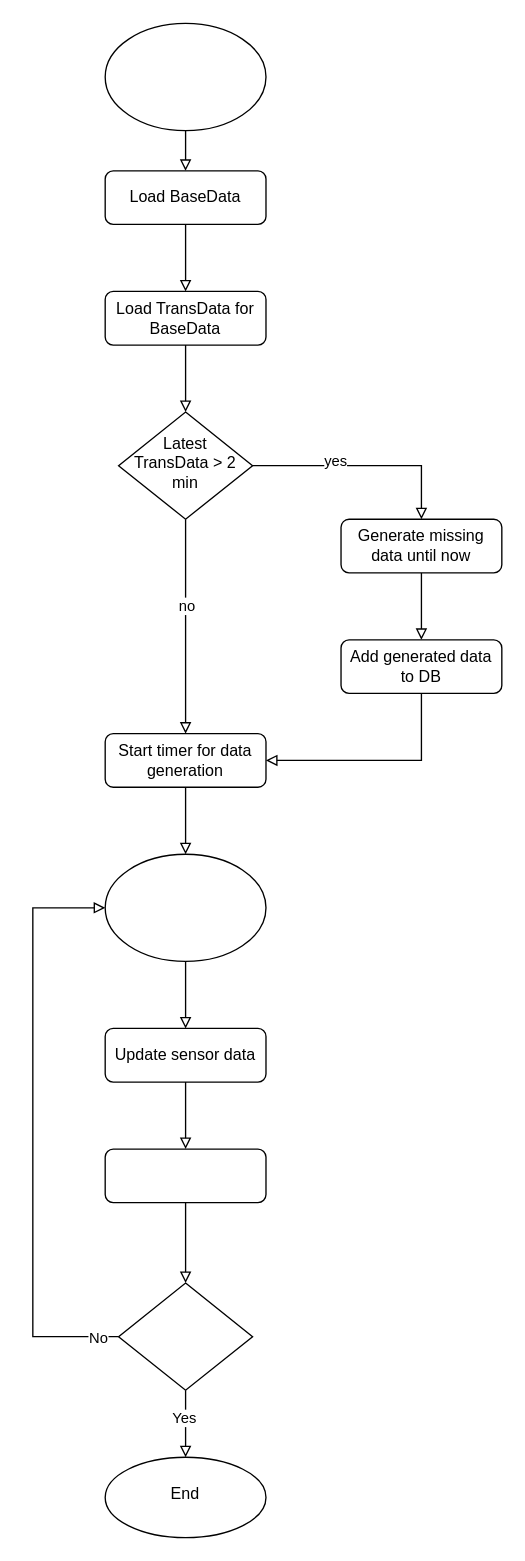
Some shapes in this 525 by 1561 pixel diagram are drawn without their labels. Each missing label, with the centre of its shape:
"Add new data to DB" goes at point (185, 1175).
"On timer tick" goes at point (185, 907).
"Service shutting down" goes at point (185, 1336).
"Start DataSimulator" goes at point (185, 76).
